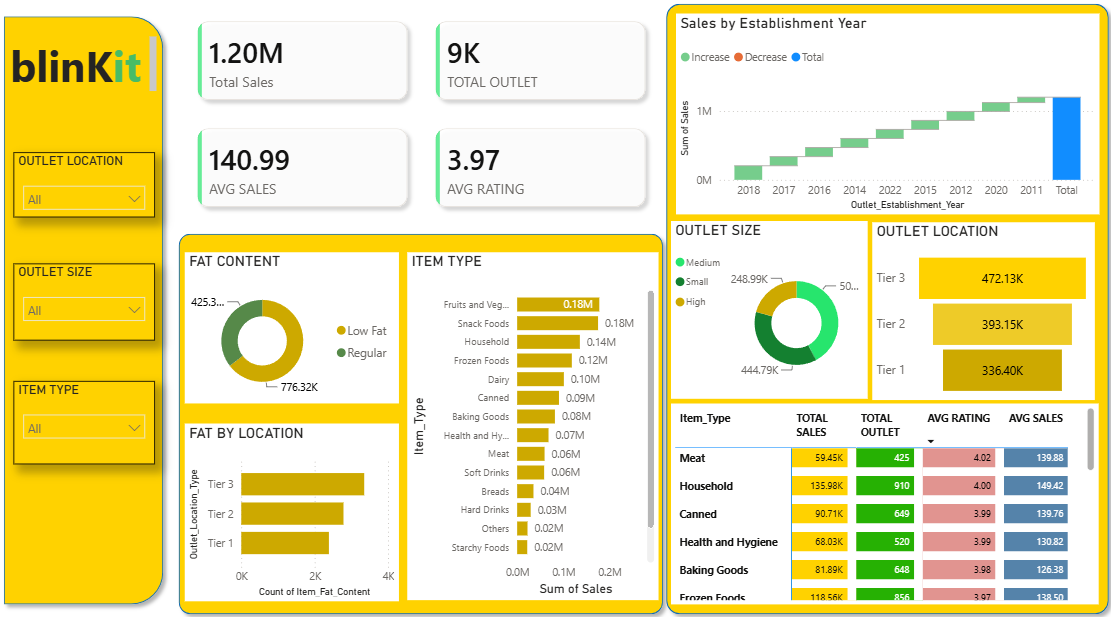

The dashboard page shown, as its layout file describes it:
{"tool":"powerbi","page":{"name":"Page 2","canvas":[1280,720],"ordinal":1},"visuals":[{"type":"shape","box":[0,14.7,200,690],"z":0},{"type":"textbox","box":[11,41.6,177.3,73.4],"z":1000},{"type":"cardVisual","fields":{"Data":["Blinkit_Sale (2).Total Sales","Blinkit_Sale (2).TOTAL OUTLET","Blinkit_Sale (2).AVG SALES","Blinkit_Sale (2).AVG RATING"]},"box":[201.8,0,570,270],"z":2000},{"type":"shape","box":[200.5,262.9,571.1,452.4],"z":3000},{"type":"donutChart","title":"FAT CONTENT","fields":{"Y":["Sum(Blinkit_Sale (2).Sales)"],"Category":["Blinkit_Sale (2).Item_Fat_Content"]},"box":[215.2,293.5,244.6,172.4],"z":4000},{"type":"barChart","title":"FAT BY LOCATION","fields":{"Category":["Blinkit_Sale (2).Outlet_Location_Type"],"Y":["CountNonNull(Blinkit_Sale (2).Item_Fat_Content)"]},"box":[215.2,487.9,244.6,203],"z":5000},{"type":"barChart","title":"ITEM TYPE","fields":{"Category":["Blinkit_Sale (2).Item_Type"],"Y":["Sum(Blinkit_Sale (2).Sales)"]},"box":[469.6,293.5,287.4,397.4],"z":6000},{"type":"shape","box":[756.9,0,523.4,715.4],"z":7000},{"type":"waterfallChart","title":"Sales by Establishment Year","fields":{"Category":["Blinkit_Sale (2).Outlet_Establishment_Year"],"Y":["Sum(Blinkit_Sale (2).Sales)"]},"box":[776.5,19.6,484.2,229.9],"z":8000},{"type":"donutChart","title":"OUTLET SIZE","fields":{"Category":["Blinkit_Sale (2).Outlet_Size"],"Y":["Sum(Blinkit_Sale (2).Sales)"]},"box":[771.6,256.8,225,203],"z":9000},{"type":"funnel","title":"OUTLET LOCATION","fields":{"Category":["Blinkit_Sale (2).Outlet_Location_Type"],"Y":["Sum(Blinkit_Sale (2).Sales)"]},"box":[1001.5,258,254.3,203],"z":10000},{"type":"pivotTable","fields":{"Rows":["Blinkit_Sale (2).Item_Type"],"Values":["Blinkit_Sale (2).Total Sales","Blinkit_Sale (2).TOTAL OUTLET","Blinkit_Sale (2).AVG RATING","Blinkit_Sale (2).AVG SALES"]},"box":[771.6,465.9,489.1,229.9],"z":11000},{"type":"slicer","title":"OUTLET LOCATION","fields":{"Values":["Blinkit_Sale (2).Outlet_Location_Type"]},"box":[19.6,178.5,161.4,74.6],"z":12000},{"type":"slicer","title":"OUTLET SIZE","fields":{"Values":["Blinkit_Sale (2).Outlet_Size"]},"box":[19.6,305.7,161.4,88],"z":13000},{"type":"slicer","title":"ITEM TYPE","fields":{"Values":["Blinkit_Sale (2).Item_Type"]},"box":[19.6,440.2,161.4,95.4],"z":14000}]}

Visuals, with their boxes in screenshot pixels (x1, y1, x2, y2), scaled from the page's 1280x720 canvas onto the 1111x617 screenshot:
shape: box=[0, 13, 174, 604]
textbox: box=[10, 36, 163, 99]
cardVisual - Blinkit_Sale (2).Total Sales x Blinkit_Sale (2).TOTAL OUTLET: box=[175, 0, 670, 231]
shape: box=[174, 225, 670, 613]
"FAT CONTENT" donutChart: box=[187, 252, 399, 399]
"FAT BY LOCATION" barChart: box=[187, 418, 399, 592]
"ITEM TYPE" barChart: box=[408, 252, 657, 592]
shape: box=[657, 0, 1110, 613]
"Sales by Establishment Year" waterfallChart: box=[674, 17, 1094, 214]
"OUTLET SIZE" donutChart: box=[670, 220, 865, 394]
"OUTLET LOCATION" funnel: box=[869, 221, 1090, 395]
pivotTable - Blinkit_Sale (2).Item_Type x Blinkit_Sale (2).Total Sales: box=[670, 399, 1094, 596]
"OUTLET LOCATION" slicer: box=[17, 153, 157, 217]
"OUTLET SIZE" slicer: box=[17, 262, 157, 337]
"ITEM TYPE" slicer: box=[17, 377, 157, 459]
